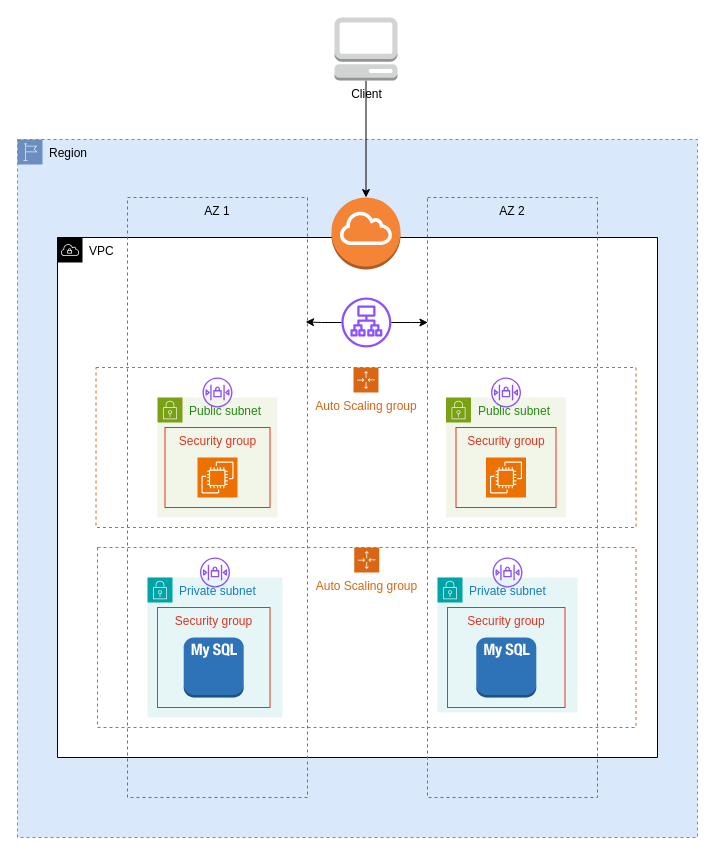
The diagram is 715 pixels wide and 855 high, and some of its shapes have lost their labels. The shapes that lost their labels are listed below. From the top down, each one's centre as x and y in pixels, then its label:
At point (365, 233): "IGW".
At point (366, 322): "ALB".
